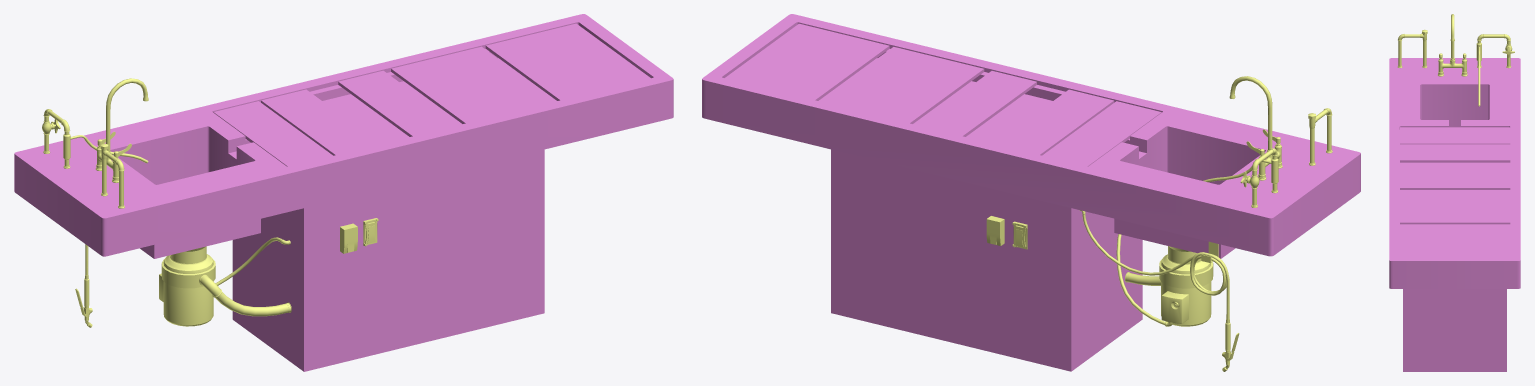
File: SM_Stationary_Pedestal_Autopsy_Table.FBX
3 views of the same model, side by side, from view 1: azimuth 30°, elevation 25°; view 2: azimuth 150°, elevation 25°; view 3: azimuth 270°, elevation 25° (orthographic). The views are drawn at different scales.
Parts seen in each view (by area): view 1: Stationary_Pedestal_Autopsy_Table_body, Stationary_Pedestal_Autopsy_Table_plates_2 (×2), Stationary_Pedestal_Autopsy_Table_plates_1 (×3), Stationary_Pedestal_Autopsy_Table_tap_4; view 2: Stationary_Pedestal_Autopsy_Table_body, Stationary_Pedestal_Autopsy_Table_plates_2 (×2), Stationary_Pedestal_Autopsy_Table_plates_1 (×3), Stationary_Pedestal_Autopsy_Table_tap_4; view 3: Stationary_Pedestal_Autopsy_Table_body, Stationary_Pedestal_Autopsy_Table_plates_2 (×2), Stationary_Pedestal_Autopsy_Table_plates_1 (×3), Stationary_Pedestal_Autopsy_Table_tap_4, Stationary_Pedestal_Autopsy_Table_hose.
Part boxes in pixels (bbox=[...]): Stationary_Pedestal_Autopsy_Table_body: bbox=[14, 14, 673, 371]; Stationary_Pedestal_Autopsy_Table_plates_2 (×2): bbox=[391, 23, 650, 123]; Stationary_Pedestal_Autopsy_Table_plates_1 (×3): bbox=[213, 70, 457, 166]; Stationary_Pedestal_Autopsy_Table_tap_4: bbox=[106, 78, 148, 152]; Stationary_Pedestal_Autopsy_Table_body: bbox=[702, 14, 1360, 371]; Stationary_Pedestal_Autopsy_Table_plates_2 (×2): bbox=[725, 23, 984, 123]; Stationary_Pedestal_Autopsy_Table_plates_1 (×3): bbox=[917, 71, 1161, 166]; Stationary_Pedestal_Autopsy_Table_tap_4: bbox=[1229, 76, 1272, 149]; Stationary_Pedestal_Autopsy_Table_body: bbox=[1389, 29, 1520, 371]; Stationary_Pedestal_Autopsy_Table_plates_2 (×2): bbox=[1400, 190, 1510, 256]; Stationary_Pedestal_Autopsy_Table_plates_1 (×3): bbox=[1400, 127, 1510, 189]; Stationary_Pedestal_Autopsy_Table_tap_4: bbox=[1450, 14, 1454, 58]; Stationary_Pedestal_Autopsy_Table_hose: bbox=[1478, 55, 1480, 106].
Size of the model in its own units: 300 by 152 by 82.07.
